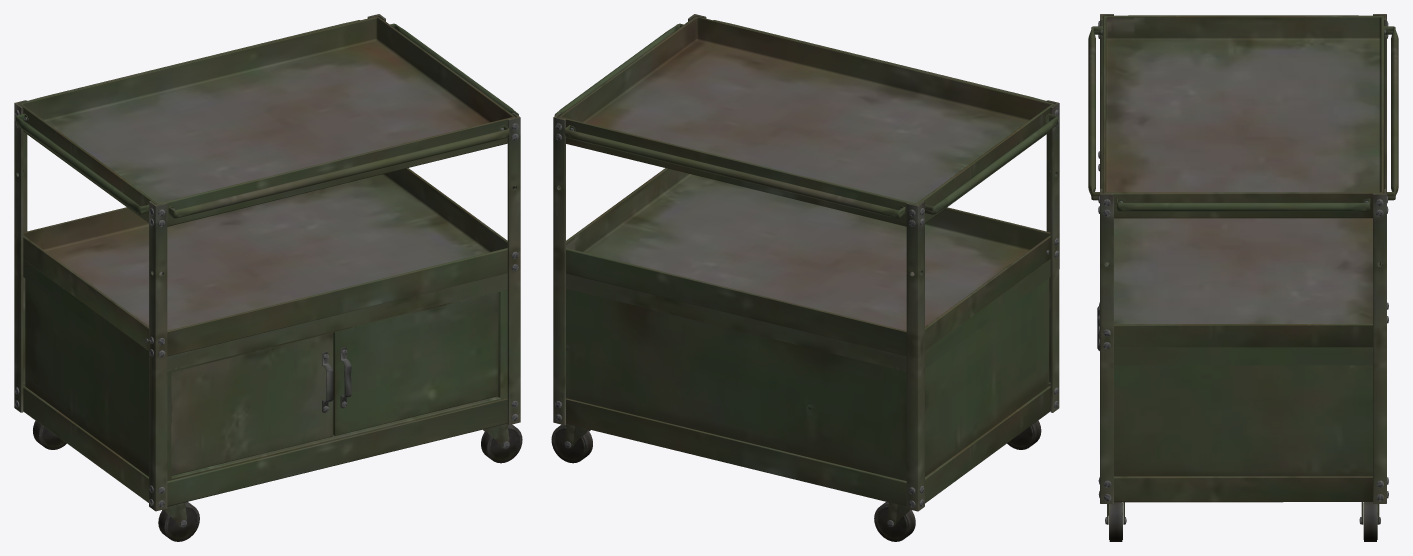
Rendered from carrello-set.glb.
3 views of the same model, side by side, from view 1: azimuth 30°, elevation 25°; view 2: azimuth 150°, elevation 25°; view 3: azimuth 270°, elevation 25° (orthographic).
Parts seen in each view (by area): view 1: industrial_storage_cart; view 2: industrial_storage_cart; view 3: industrial_storage_cart.
Part boxes in pixels (left/top/right/bottom): industrial_storage_cart: left=14, top=14, right=522, bottom=541; industrial_storage_cart: left=551, top=14, right=1059, bottom=541; industrial_storage_cart: left=1088, top=14, right=1398, bottom=541.
Size of the model in its own units: 1.6 by 1.38 by 1.1.
1 material, 1 textured.
